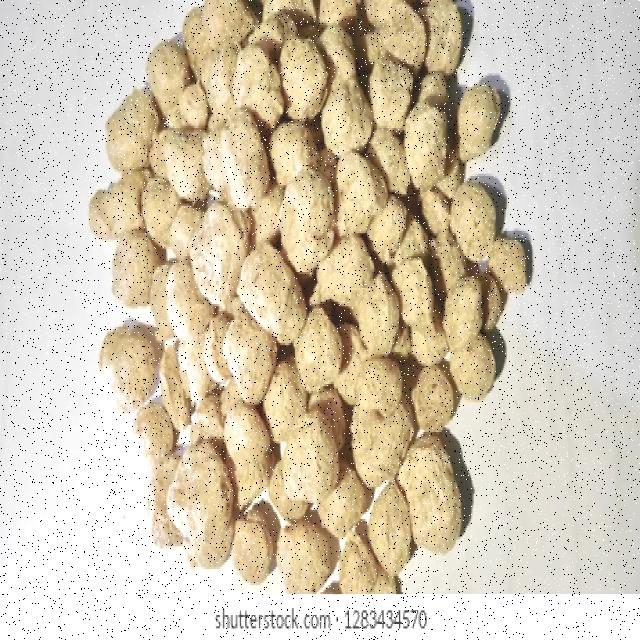Soy Chunks: (153, 97, 459, 544)
